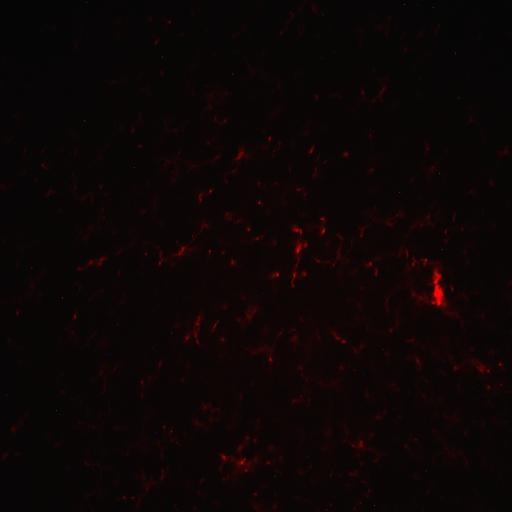microglia: (252, 165, 312, 222), (286, 360, 348, 408), (160, 145, 221, 191), (283, 310, 346, 354), (157, 218, 211, 268), (237, 49, 290, 97), (455, 348, 503, 398), (242, 323, 284, 379), (217, 438, 265, 486), (43, 277, 89, 324), (124, 406, 164, 459), (357, 199, 408, 240), (278, 1, 324, 46), (315, 234, 357, 283), (402, 144, 446, 190), (431, 425, 471, 475), (73, 205, 118, 247), (410, 284, 459, 322), (130, 465, 169, 512), (342, 284, 378, 334), (346, 424, 384, 470), (357, 113, 391, 164), (403, 203, 446, 241), (286, 218, 308, 291), (74, 400, 114, 438), (222, 138, 253, 187), (364, 366, 405, 402), (82, 456, 114, 502), (418, 251, 460, 286), (134, 178, 162, 230), (357, 71, 392, 110), (174, 473, 209, 512), (20, 262, 51, 306), (87, 355, 120, 396), (17, 142, 52, 180), (197, 78, 231, 116), (215, 234, 243, 280), (390, 244, 419, 285), (136, 359, 162, 402), (154, 42, 175, 94), (410, 384, 444, 416), (304, 140, 331, 180), (83, 322, 114, 354), (264, 442, 290, 480), (64, 177, 96, 207), (407, 344, 431, 383), (73, 249, 110, 274), (156, 418, 184, 451), (236, 295, 263, 329), (112, 232, 142, 262), (182, 307, 204, 347), (244, 223, 279, 248), (158, 116, 188, 144), (226, 393, 246, 431), (383, 283, 406, 314), (250, 491, 282, 512), (362, 250, 384, 280), (190, 414, 216, 439), (372, 13, 395, 41), (222, 204, 246, 230), (304, 212, 328, 238), (258, 133, 279, 161), (348, 338, 368, 367), (199, 399, 223, 423), (0, 440, 23, 465), (10, 410, 30, 438), (203, 111, 229, 131), (213, 295, 231, 317), (337, 143, 354, 165), (143, 237, 156, 263), (268, 270, 281, 287), (215, 334, 232, 347), (113, 322, 123, 344), (366, 166, 378, 180), (498, 145, 510, 157), (312, 90, 322, 104), (157, 250, 164, 266), (424, 141, 430, 154), (212, 320, 218, 330), (360, 87, 365, 95), (309, 146, 314, 154), (154, 38, 159, 45), (131, 128, 135, 133), (138, 144, 142, 148)
